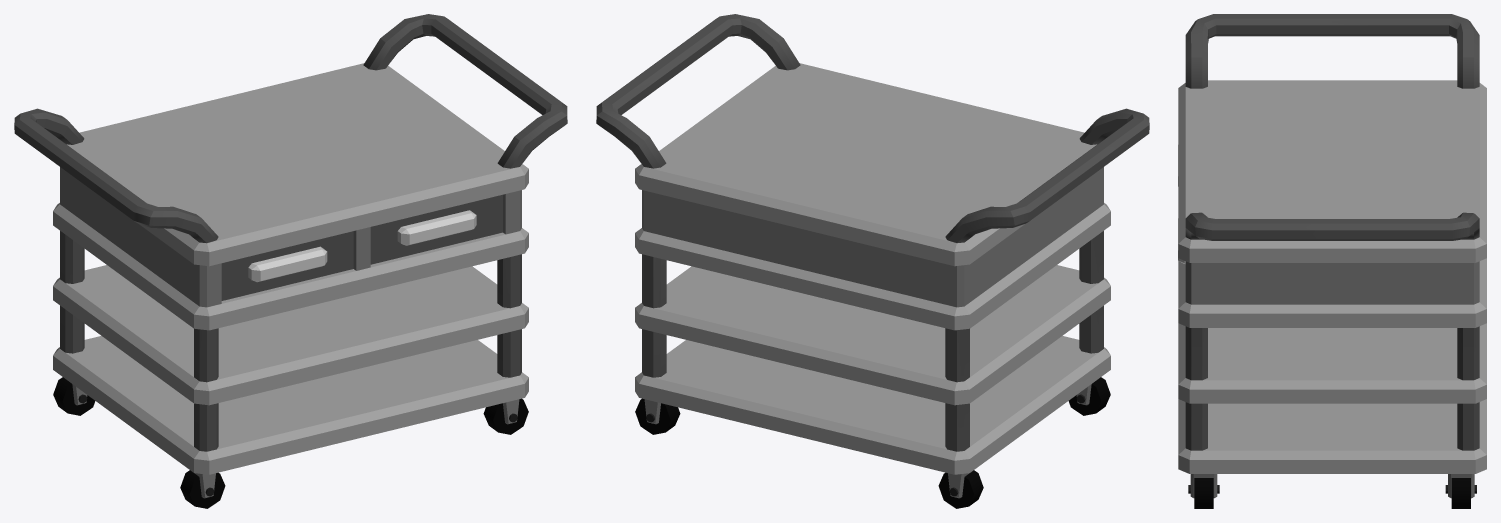
File: Utility Cart 01.fbx
The picture shows the model from 3 angles, left to right: view 1: azimuth 30°, elevation 25°; view 2: azimuth 150°, elevation 25°; view 3: azimuth 270°, elevation 25°; orthographic projection.
Visible parts, largest first — view 1: Utility_Cart_01; view 2: Utility_Cart_01; view 3: Utility_Cart_01.
Part boxes in pixels (box(x1,y1,x2,y2)): Utility_Cart_01: box(14, 14, 567, 508); Utility_Cart_01: box(596, 14, 1149, 508); Utility_Cart_01: box(1178, 14, 1486, 508).
Bounding box in the file's own units: 135 × 92.73 × 82.51.
